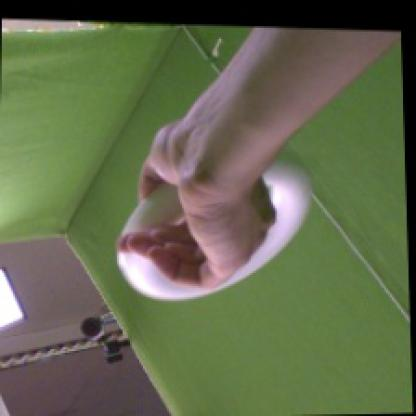Hand: (114, 118, 278, 296)
